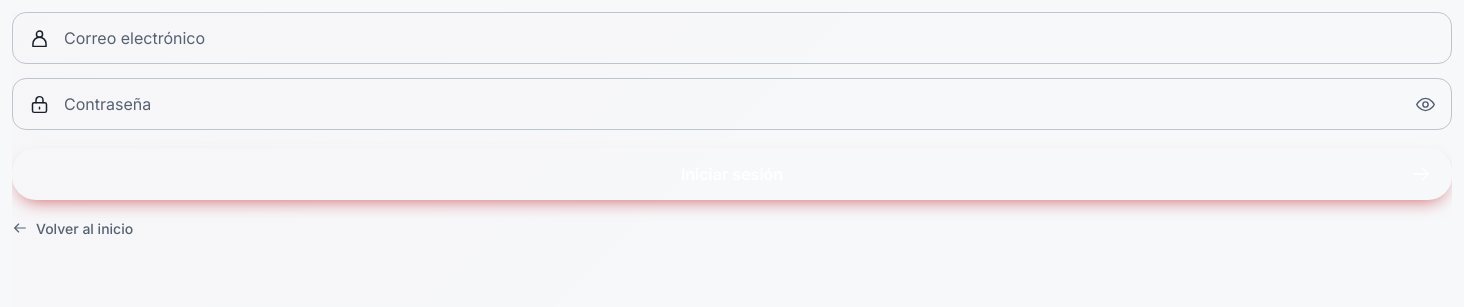
Test: explica que una cuenta bloqueada no puede entrar
Type "bruno@example.com" into the field labelled "Correo electrónico" at coordinates (750, 38), box 50,13 -> 1451,63
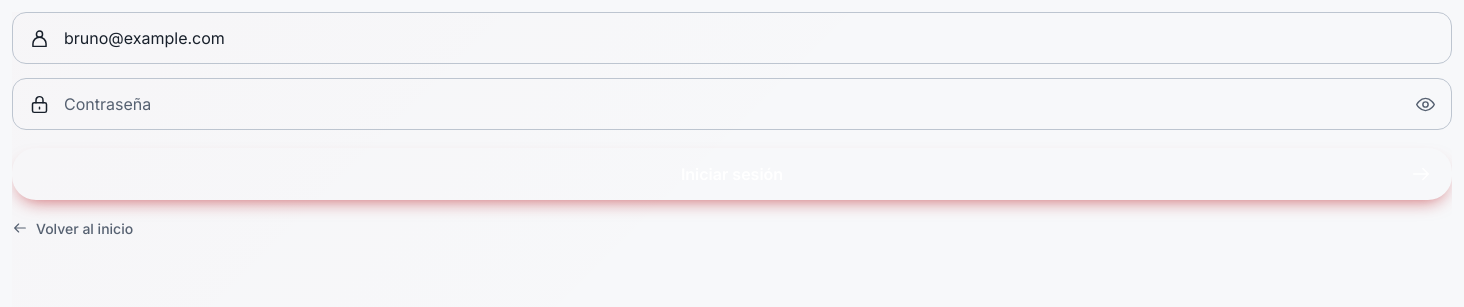
Type "temporary-password" into the password field labelled "Contraseña" at coordinates (726, 104), box 50,79 -> 1403,129
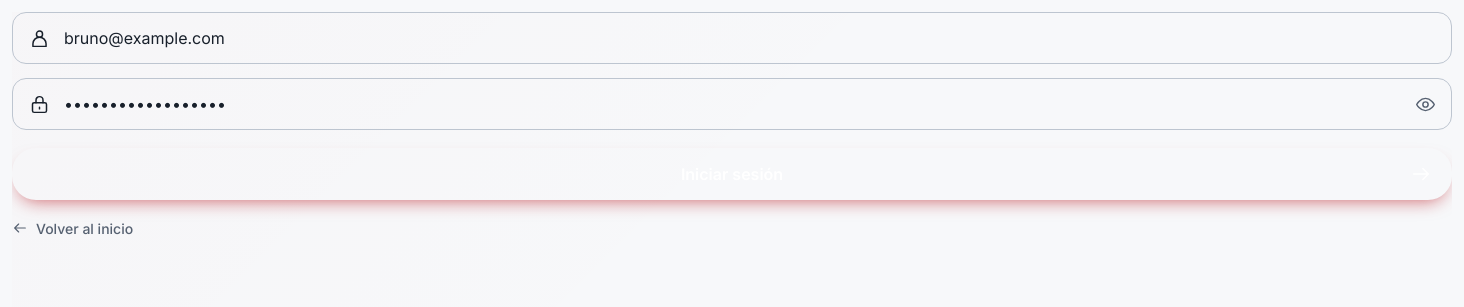
Click the button "Iniciar sesión" at coordinates (732, 174), box 12,148 -> 1452,200
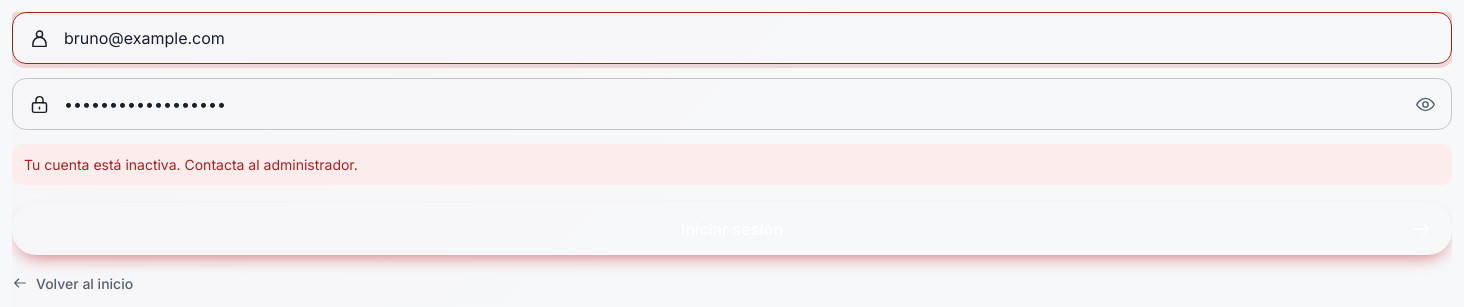
Now the text "Tu cuenta está inactiva. Contacta al administrador." is shown, box 12,144 -> 1452,185
